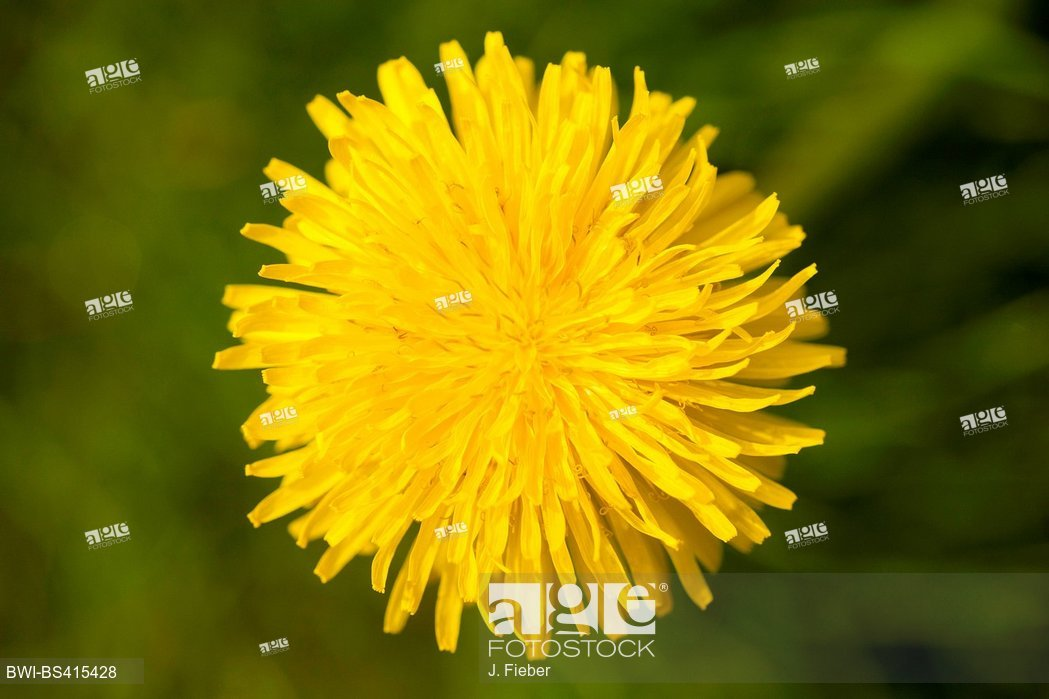dandelion: (207, 54, 836, 618)
